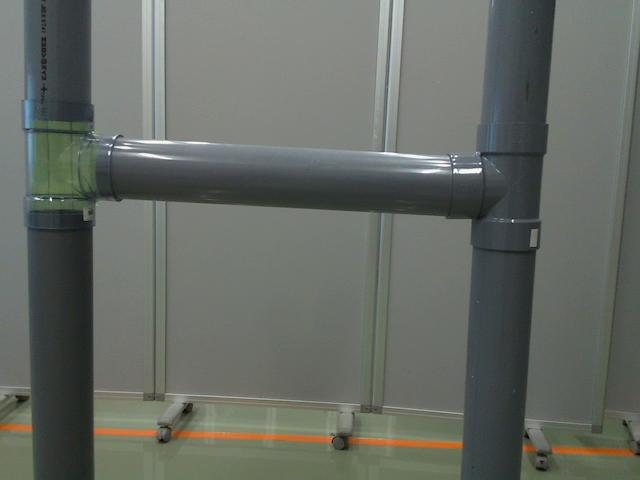junction: (438, 124, 552, 250), (19, 93, 121, 230)
